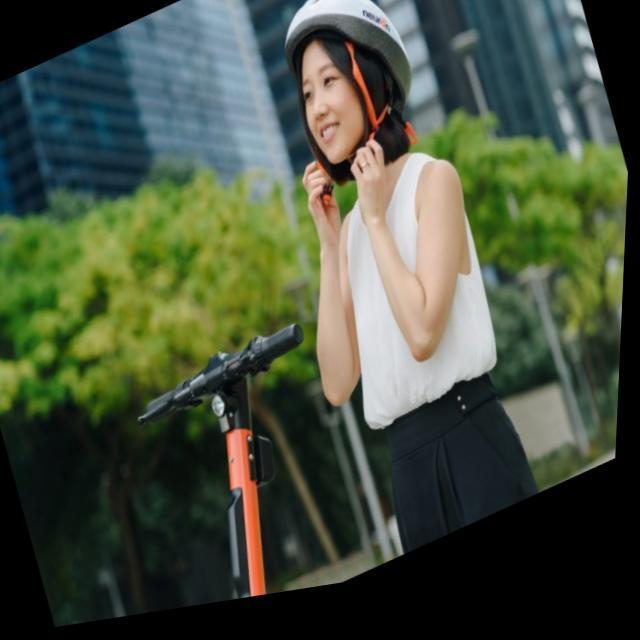Helmet: (280, 0, 419, 188)
